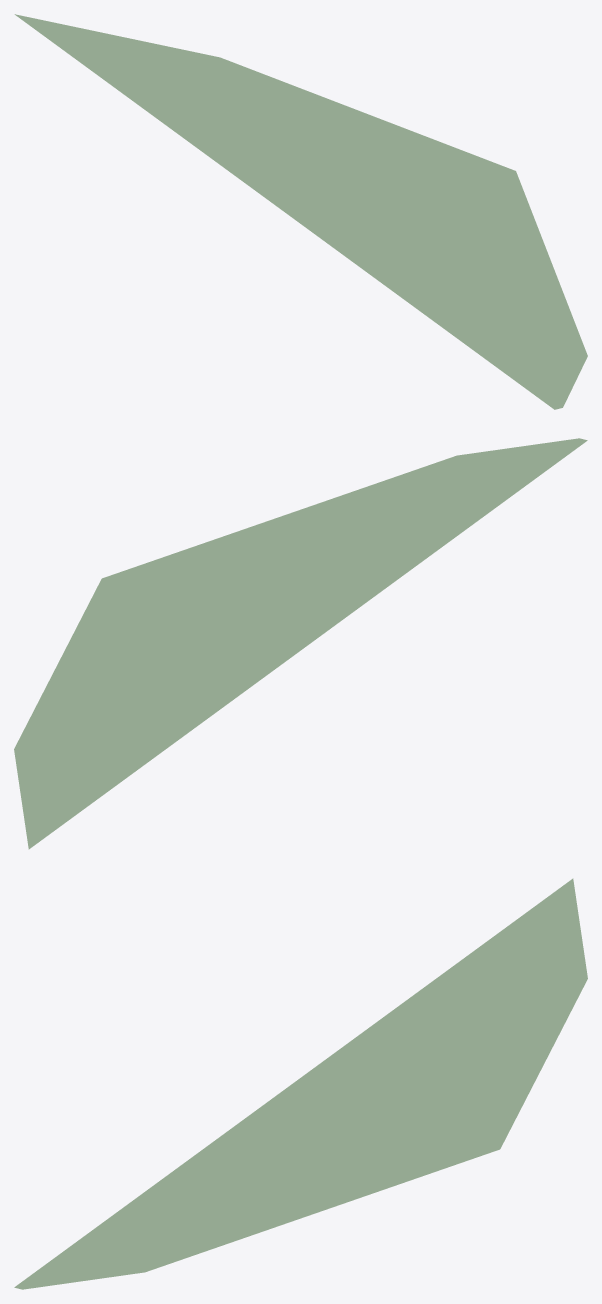
File: -16_18-known-fine.glb
3 renders of one model, top to bottom at view 1: azimuth 30°, elevation 25°; view 2: azimuth 150°, elevation 25°; view 3: azimuth 330°, elevation 25°, orthographic. The views are drawn at different scales.
Size of the model in its own units: 135 by 0 by 586.
